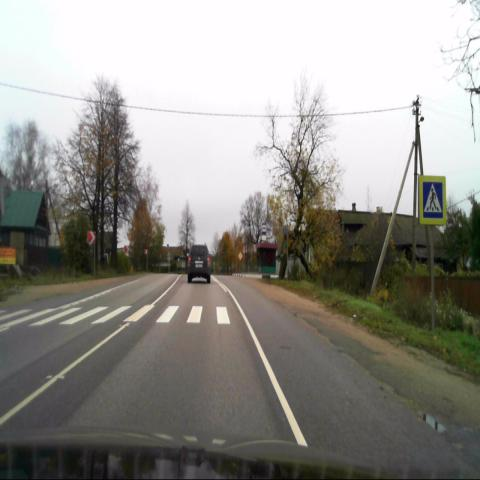5_19_1: (418, 176, 446, 224)
